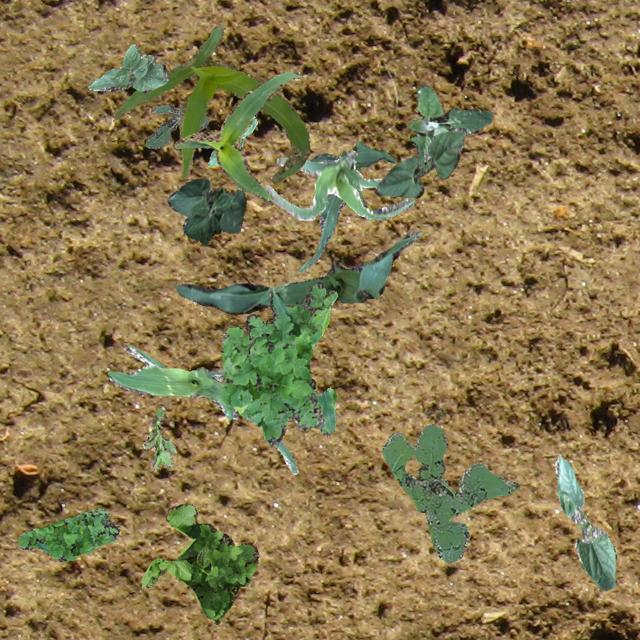crop: (112, 22, 308, 182), (106, 344, 296, 474), (176, 230, 420, 314), (174, 68, 300, 204), (298, 140, 396, 270), (264, 148, 414, 220), (554, 456, 614, 590), (374, 126, 466, 196), (167, 177, 246, 244), (86, 44, 168, 92), (206, 114, 256, 166)
weed: (220, 281, 336, 444), (381, 422, 518, 560), (140, 503, 258, 622), (408, 85, 492, 166), (17, 508, 118, 560), (144, 105, 208, 146), (140, 408, 176, 470)
